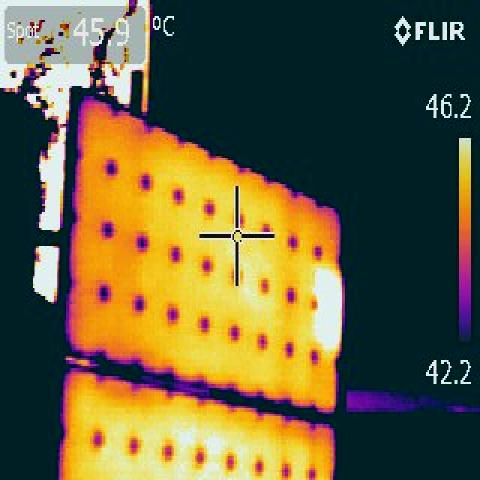fault: (314, 262, 344, 358)
